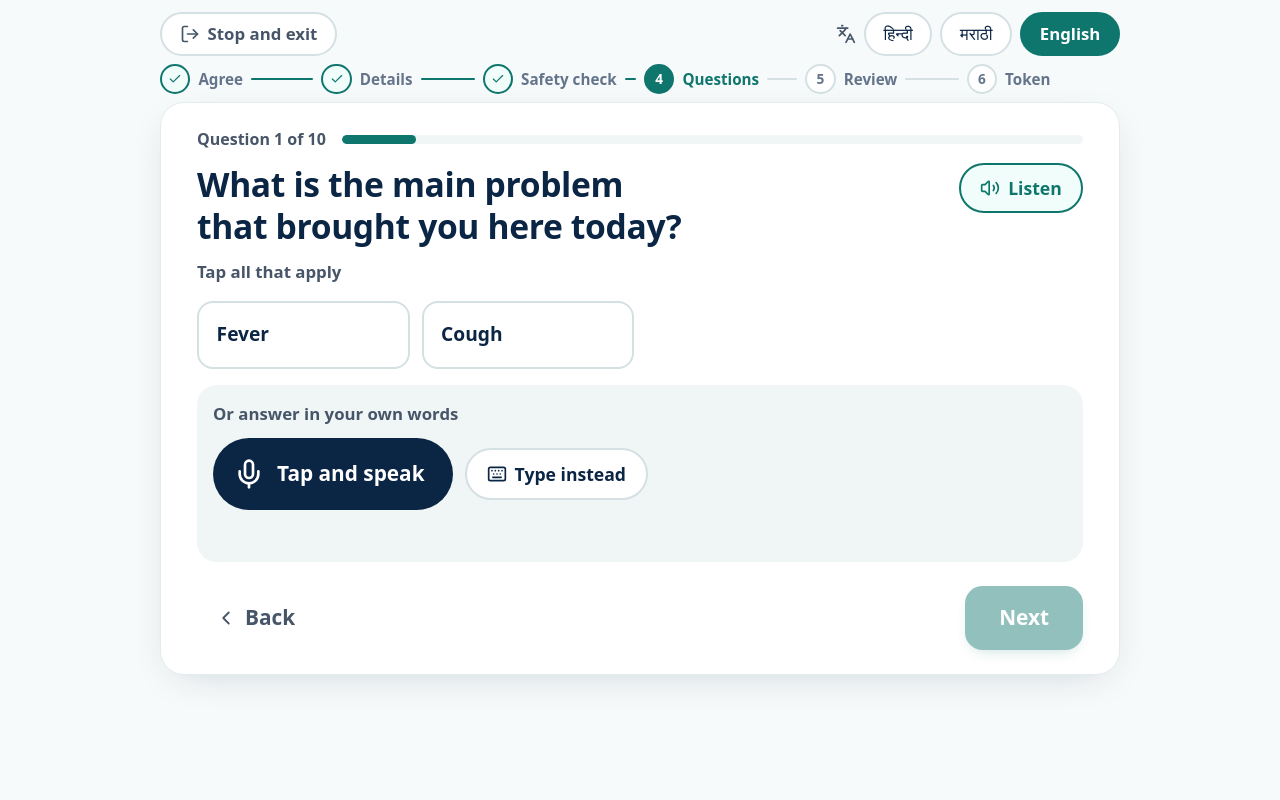
Test: kiosk intake › asks the patient to tap again when the connection drops while answering
Click the button "Fever" at [303, 334], box [197,300,410,368]
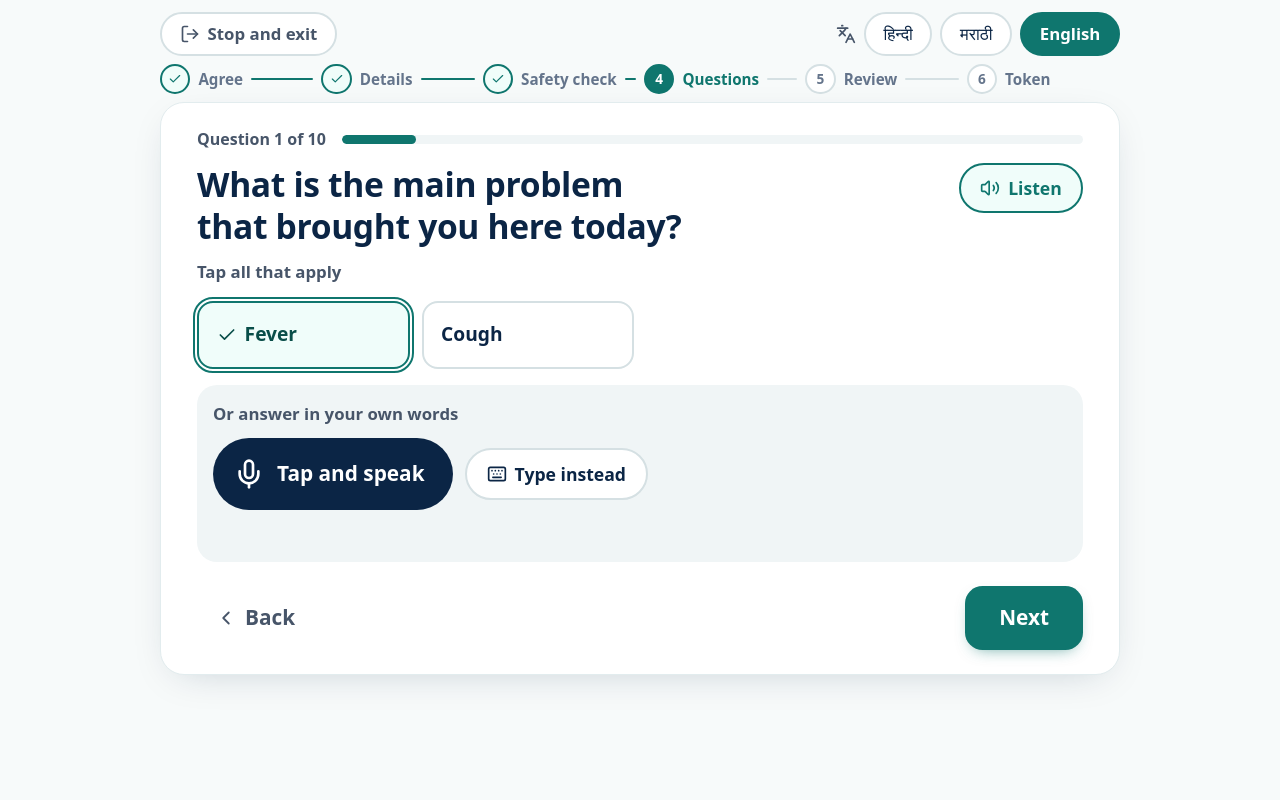
Click the button "Next" at [1024, 618], box [965,586,1083,650]
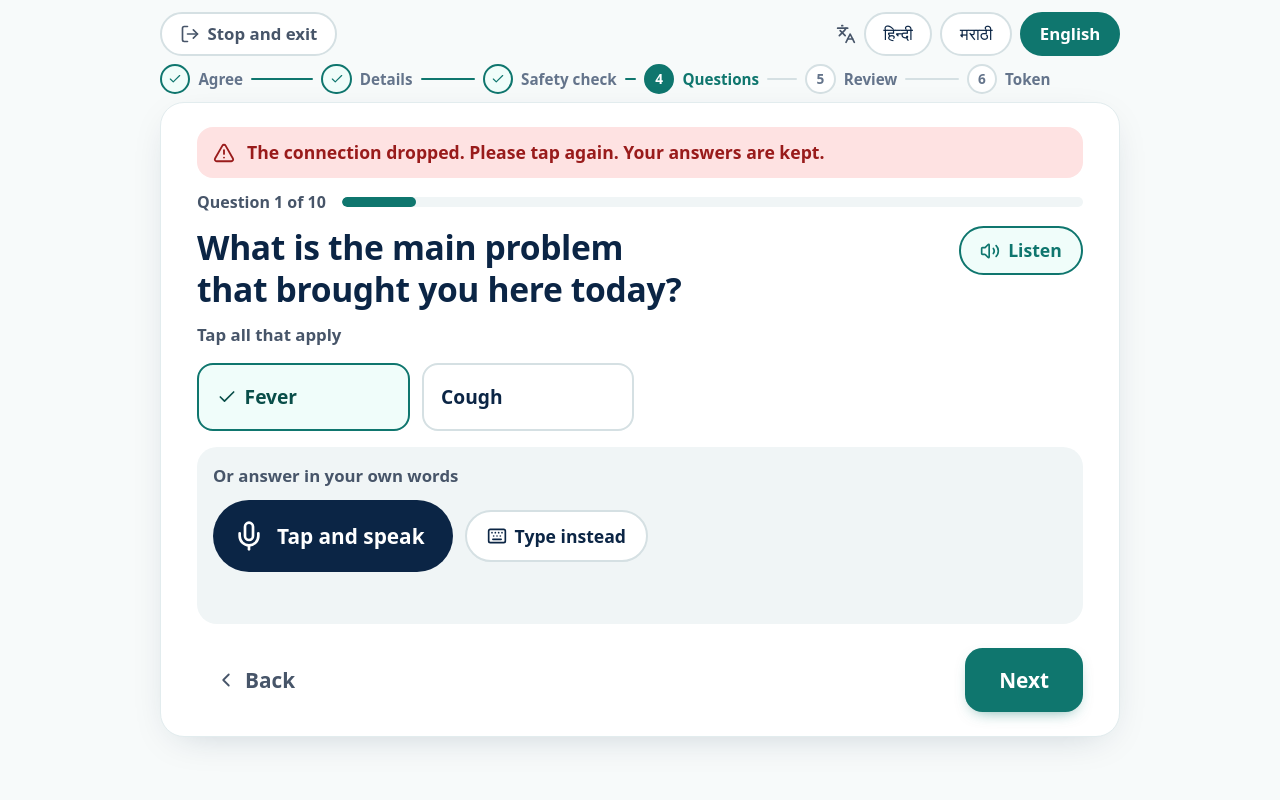
Expected: the message reads "The connection dropped. Please tap again. Your answers are kept.", [247,140,824,164]
// The server recognises an answer it already saved, so tapping again is safe.
Click the button "Next" at [1024, 680], box [965,648,1083,712]
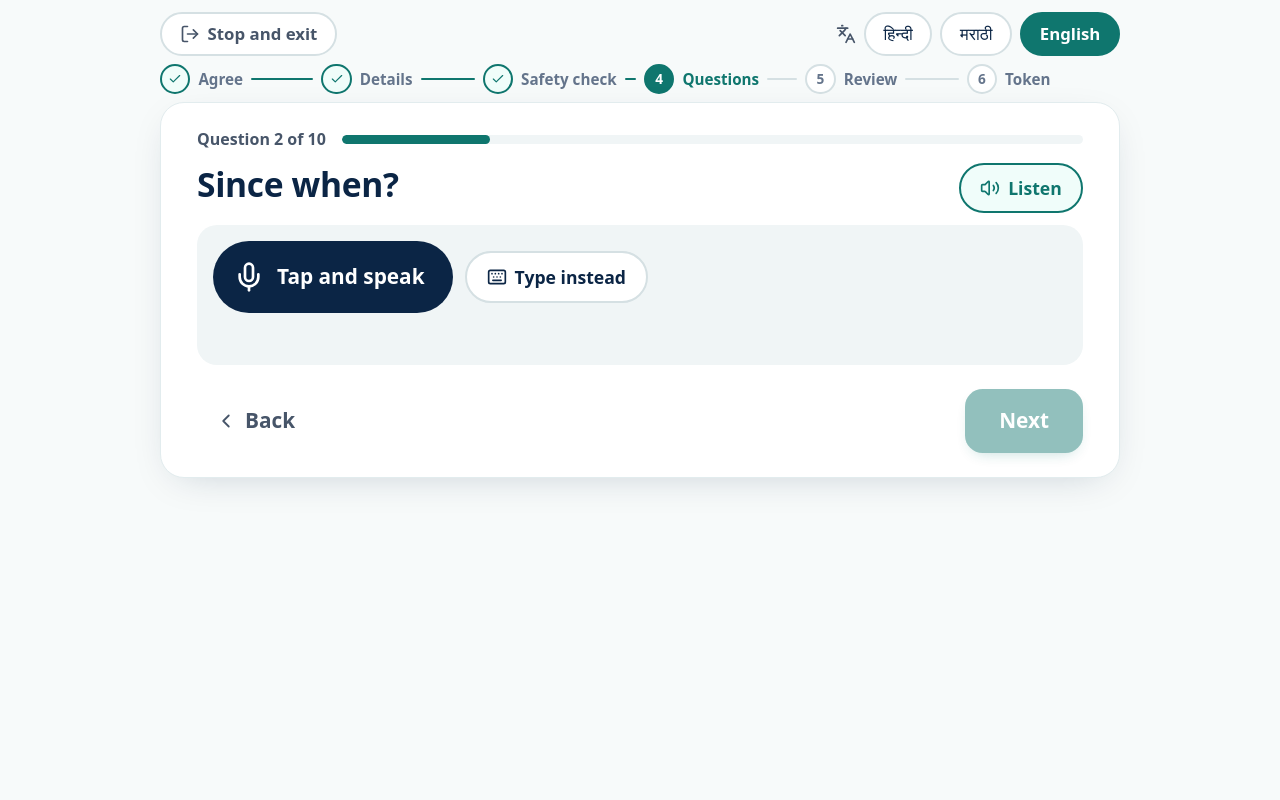
Expected: the heading "Since when?" is shown, [197,163,399,205]
